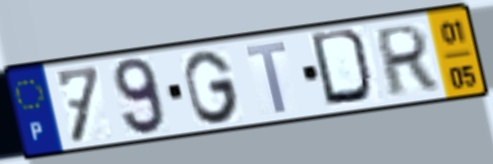7: (53, 62, 103, 145)
9: (111, 55, 169, 138)
D: (307, 26, 379, 109)
G: (181, 47, 243, 127)
R: (374, 21, 440, 101)
T: (242, 39, 290, 117)
